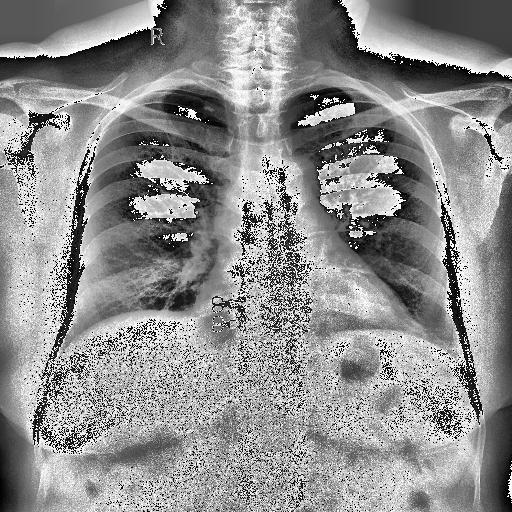2- Calcification: (202, 105, 214, 112)
3- Cardiomegaly: (190, 264, 423, 338), (193, 273, 429, 339), (193, 284, 424, 333)
9- Other lesion: (202, 104, 216, 113)
